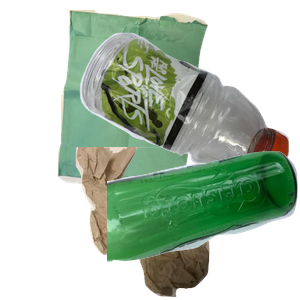glass: (107, 149, 300, 300)
paper: (55, 10, 255, 190)
plastic: (77, 30, 300, 198)
trash: (73, 147, 300, 300)
